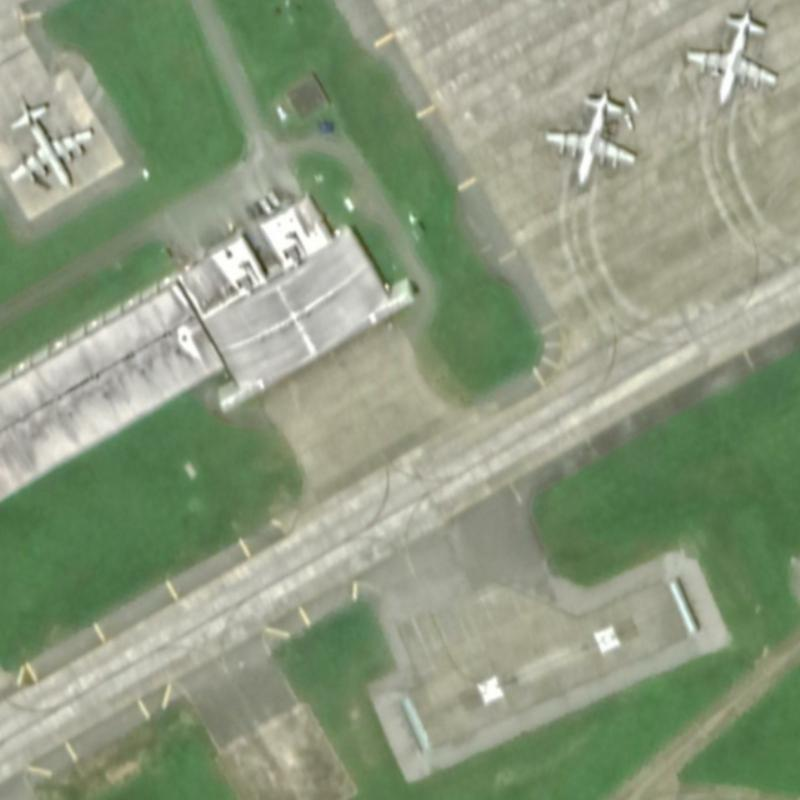A9: (538, 83, 640, 191), (680, 4, 781, 110), (4, 86, 100, 196)
